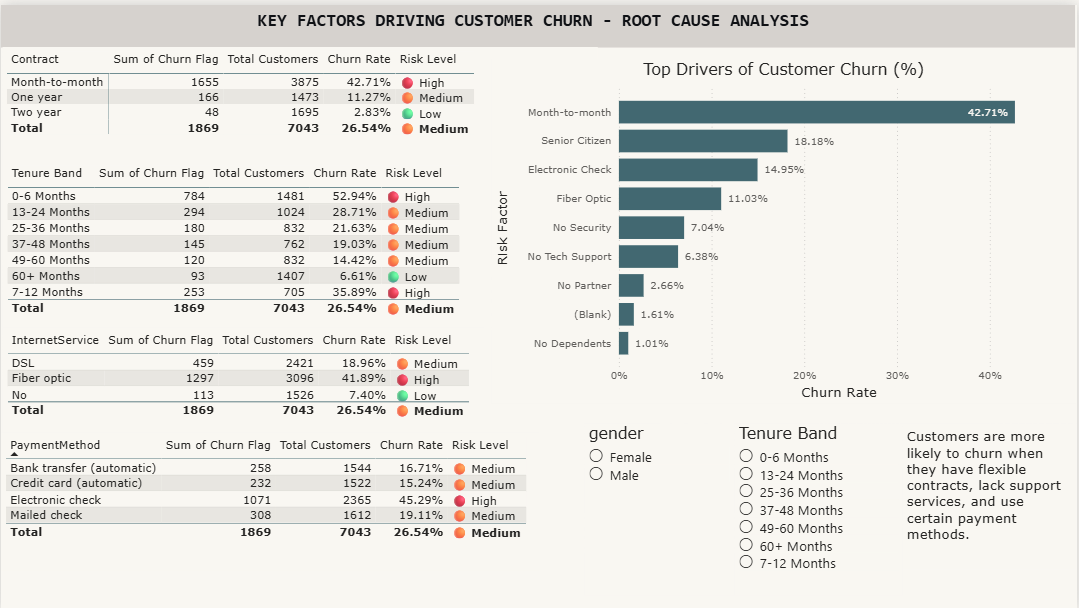

The dashboard page shown, as its layout file describes it:
{"tool":"powerbi","page":{"name":"Page 2","canvas":[1280,720],"ordinal":1},"visuals":[{"type":"textbox","box":[0,0,1278.9,50.9],"z":0},{"type":"pivotTable","fields":{"Rows":["WA_Fn-UseC_-Telco-Customer-Chur.Contract"],"Values":["Sum(WA_Fn-UseC_-Telco-Customer-Chur.Churn Flag)","WA_Fn-UseC_-Telco-Customer-Chur.Total Customers","WA_Fn-UseC_-Telco-Customer-Chur.Churn Rate","WA_Fn-UseC_-Telco-Customer-Chur.Risk Level"]},"box":[1.4,50.7,708.7,150.7],"z":1000},{"type":"tableEx","fields":{"Values":["WA_Fn-UseC_-Telco-Customer-Chur.Tenure Band","Sum(WA_Fn-UseC_-Telco-Customer-Chur.Churn Flag)","WA_Fn-UseC_-Telco-Customer-Chur.Total Customers","WA_Fn-UseC_-Telco-Customer-Chur.Churn Rate","WA_Fn-UseC_-Telco-Customer-Chur.Risk Level(Churn)"]},"box":[1.4,185.5,572.5,207.2],"z":2000},{"type":"tableEx","fields":{"Values":["WA_Fn-UseC_-Telco-Customer-Chur.PaymentMethod","Sum(WA_Fn-UseC_-Telco-Customer-Chur.Churn Flag)","WA_Fn-UseC_-Telco-Customer-Chur.Total Customers","WA_Fn-UseC_-Telco-Customer-Chur.Churn Rate","WA_Fn-UseC_-Telco-Customer-Chur.Risk Level"]},"box":[0,508.7,640.6,163.8],"z":3000},{"type":"tableEx","fields":{"Values":["WA_Fn-UseC_-Telco-Customer-Chur.InternetService","Sum(WA_Fn-UseC_-Telco-Customer-Chur.Churn Flag)","WA_Fn-UseC_-Telco-Customer-Chur.Total Customers","WA_Fn-UseC_-Telco-Customer-Chur.Churn Rate","WA_Fn-UseC_-Telco-Customer-Chur.Risk Level"]},"box":[1.4,384.1,572.5,124.6],"z":4000},{"type":"clusteredBarChart","title":"Top Drivers of Customer Churn (%)","fields":{"Category":["WA_Fn-UseC_-Telco-Customer-Chur.Risk Factor"],"Y":["WA_Fn-UseC_-Telco-Customer-Chur.Churn Rate"]},"box":[584.1,63.8,695.7,410.1],"z":5000},{"type":"listSlicer","fields":{"Values":["WA_Fn-UseC_-Telco-Customer-Chur.gender"]},"box":[694.2,498.6,178.3,204.3],"z":6000},{"type":"listSlicer","fields":{"Values":["WA_Fn-UseC_-Telco-Customer-Chur.Tenure Band"]},"box":[872.5,498.6,200,204.3],"z":7000},{"type":"textbox","box":[1072.5,498.6,207.2,173.9],"z":8000}]}

Visuals, with their boxes in screenshot pixels (x1, y1, x2, y2), scaled from the page's 1280x720 canvas onto the 1079x608 screenshot:
textbox: 0 0 1078 43
pivotTable - WA_Fn-UseC_-Telco-Customer-Chur.Contract x Sum(WA_Fn-UseC_-Telco-Customer-Chur.Churn Flag): 1 43 599 170
tableEx - WA_Fn-UseC_-Telco-Customer-Chur.Tenure Band x Sum(WA_Fn-UseC_-Telco-Customer-Chur.Churn Flag): 1 157 484 332
tableEx - WA_Fn-UseC_-Telco-Customer-Chur.PaymentMethod x Sum(WA_Fn-UseC_-Telco-Customer-Chur.Churn Flag): 0 430 540 568
tableEx - WA_Fn-UseC_-Telco-Customer-Chur.InternetService x Sum(WA_Fn-UseC_-Telco-Customer-Chur.Churn Flag): 1 324 484 430
"Top Drivers of Customer Churn (%)" clusteredBarChart: 492 54 1078 400
listSlicer - WA_Fn-UseC_-Telco-Customer-Chur.gender: 585 421 735 594
listSlicer - WA_Fn-UseC_-Telco-Customer-Chur.Tenure Band: 735 421 904 594
textbox: 904 421 1078 568
